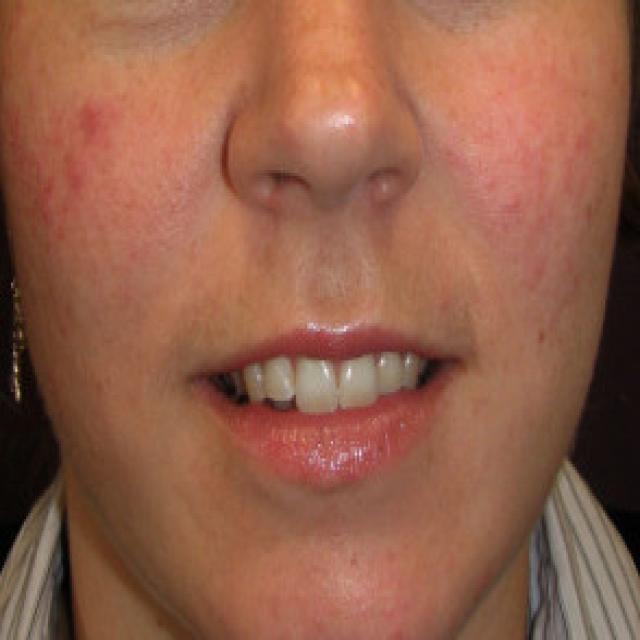Rosacea: (426, 29, 620, 336), (0, 89, 132, 281)
